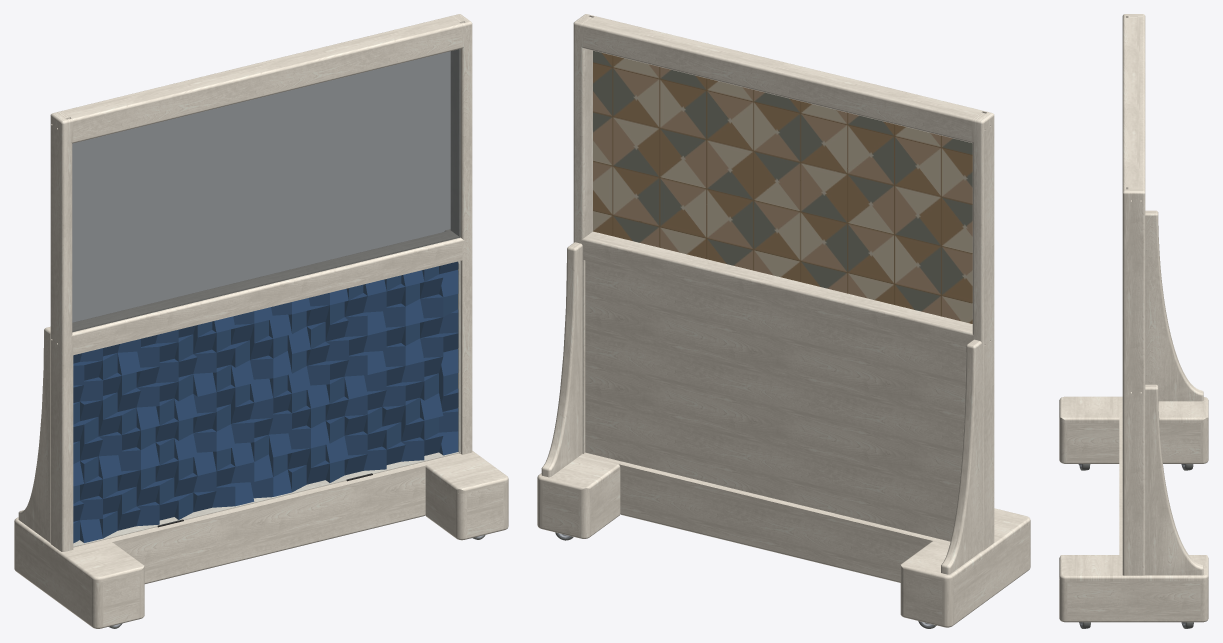
The model's file is v10-linen-marquetry-saltwashed-oak-one.glb.
3 views of the same model, side by side, from view 1: azimuth 30°, elevation 25°; view 2: azimuth 150°, elevation 25°; view 3: azimuth 270°, elevation 25° (orthographic). The views are drawn at different scales.
Parts seen in each view (by area): view 1: Wood, Cover glass, Linen Marquetry reverse, Navy Everwood relief; view 2: Wood, Linen Marquetry print; view 3: Wood, Nonmarking rubber.
Part boxes in pixels (bbox=[...]): Wood: bbox=[14, 14, 508, 628]; Cover glass: bbox=[74, 261, 459, 545]; Linen Marquetry reverse: bbox=[72, 49, 460, 331]; Navy Everwood relief: bbox=[73, 261, 458, 543]; Wood: bbox=[537, 14, 1030, 627]; Linen Marquetry print: bbox=[593, 50, 972, 323]; Wood: bbox=[1059, 14, 1208, 622]; Nonmarking rubber: bbox=[1079, 464, 1193, 628].
Size of the model in its own units: 1.68 by 1.91 by 0.5842.
Materials: 10 (2 with a texture image).
